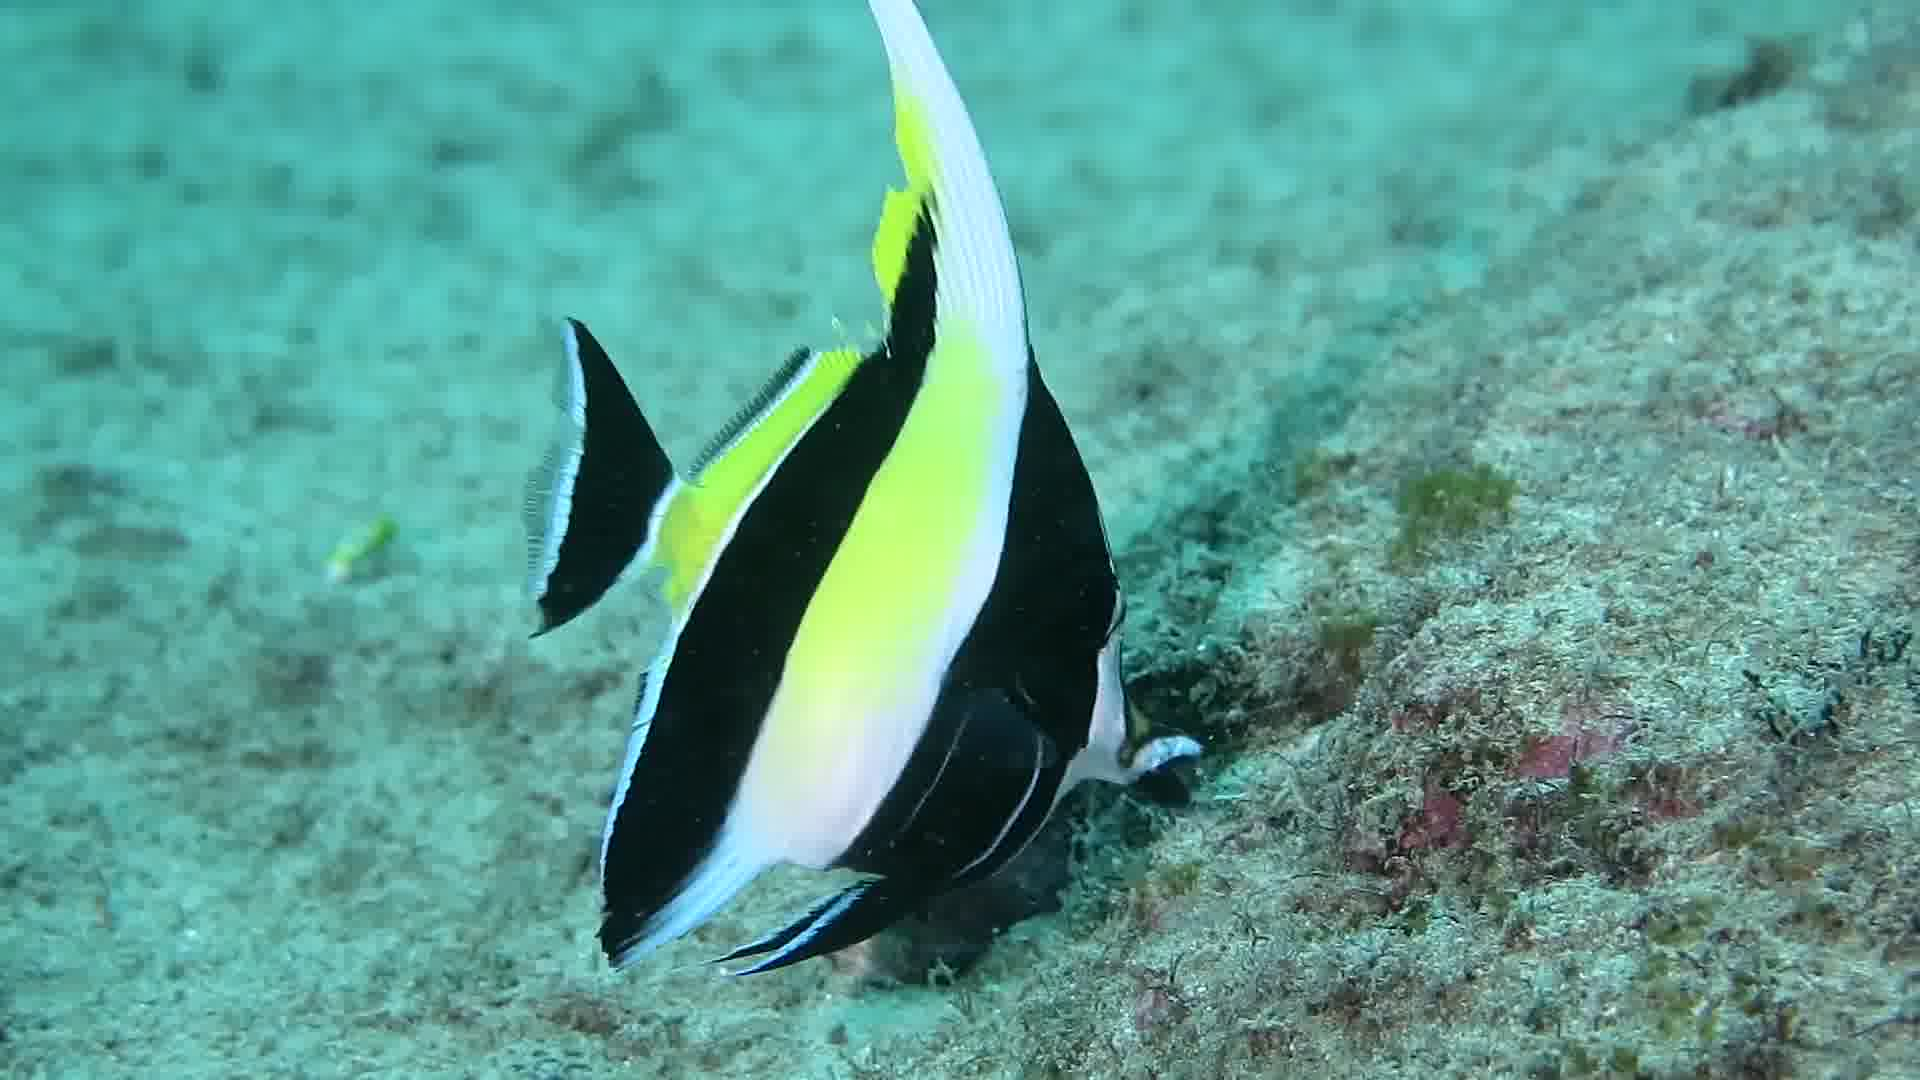Zanclus cornutus: (495, 196, 1265, 963)
